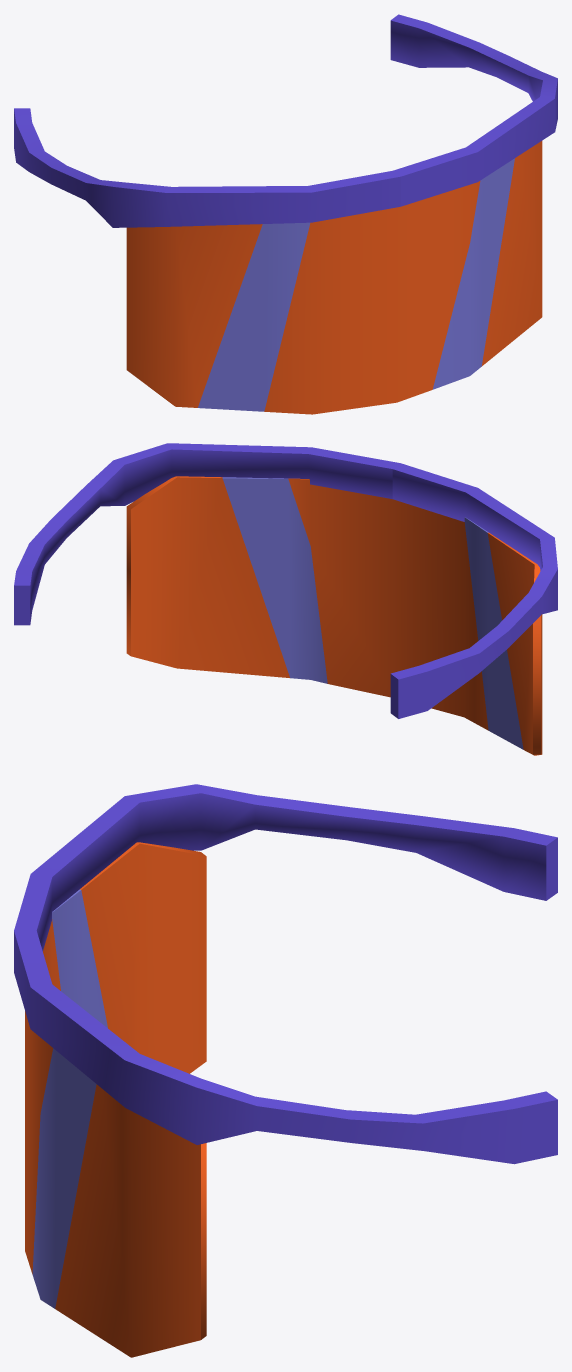
File: Glasses_05.fbx
3 views of the same model, one above another, from view 1: azimuth 30°, elevation 25°; view 2: azimuth 150°, elevation 25°; view 3: azimuth 270°, elevation 25° (orthographic). The views are drawn at different scales.
Visible parts, largest first — view 1: Glasses_05.c; view 2: Glasses_05.c; view 3: Glasses_05.c.
Boxes of the visible parts, x1,y1,x2,y2 form: Glasses_05.c: (14,14,557,414); Glasses_05.c: (14,443,557,755); Glasses_05.c: (14,784,557,1357).
Size of the model in its own units: 0.6462 by 0.3111 by 0.4757.
